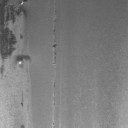slag inclusion: (0, 0, 32, 75), (51, 2, 57, 104), (14, 54, 30, 68), (21, 94, 24, 108), (20, 124, 25, 128)
